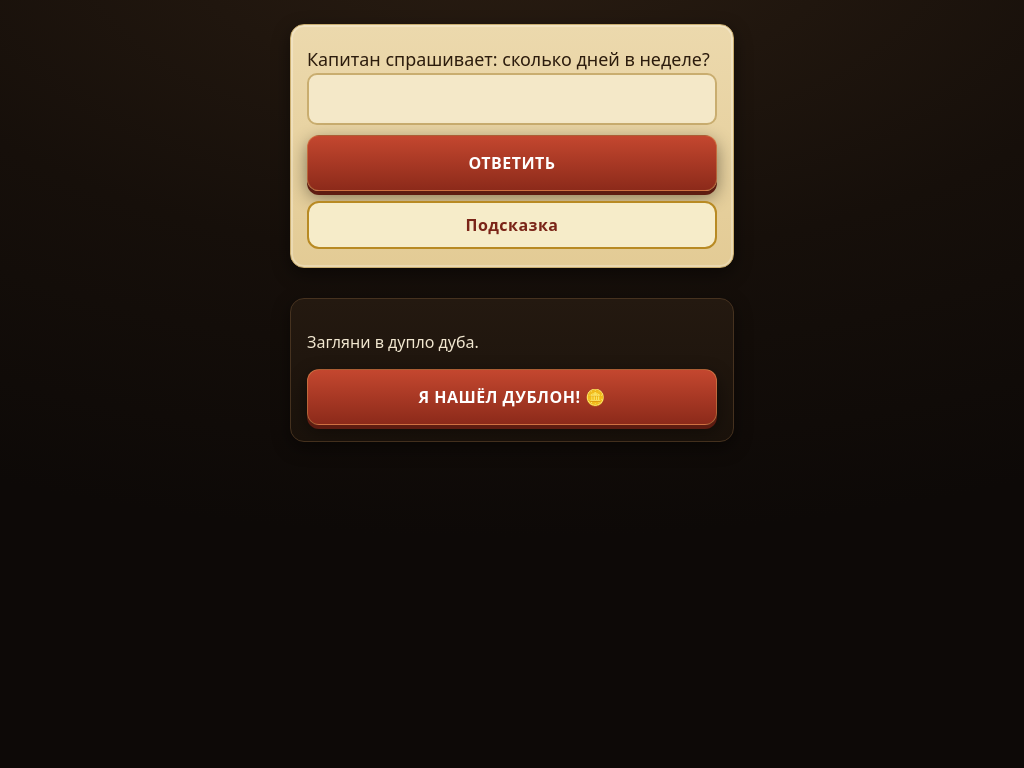
Scenario: after two wrong answers "Показать ответ" appears and fills the input so riddle can be solved
# Wrong answer 1
Type "wrong1" into the field named "Ответ" at (512, 99), box [307,73,717,125]
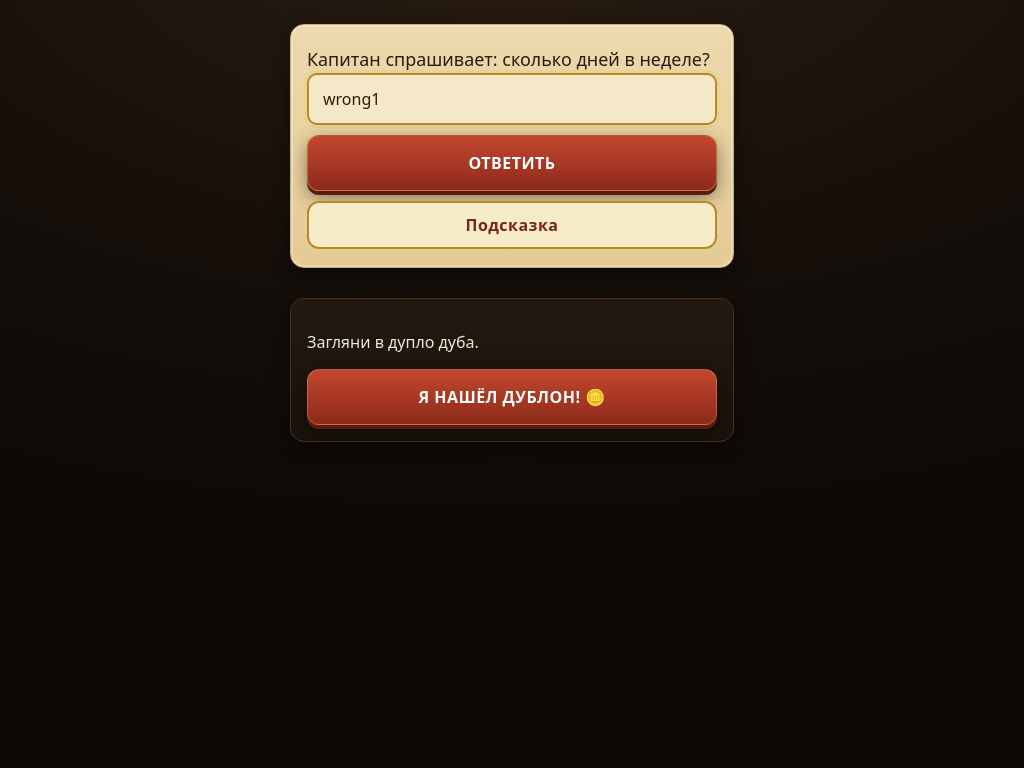
Click the button "Ответить" at (512, 163), box [307,135,717,191]
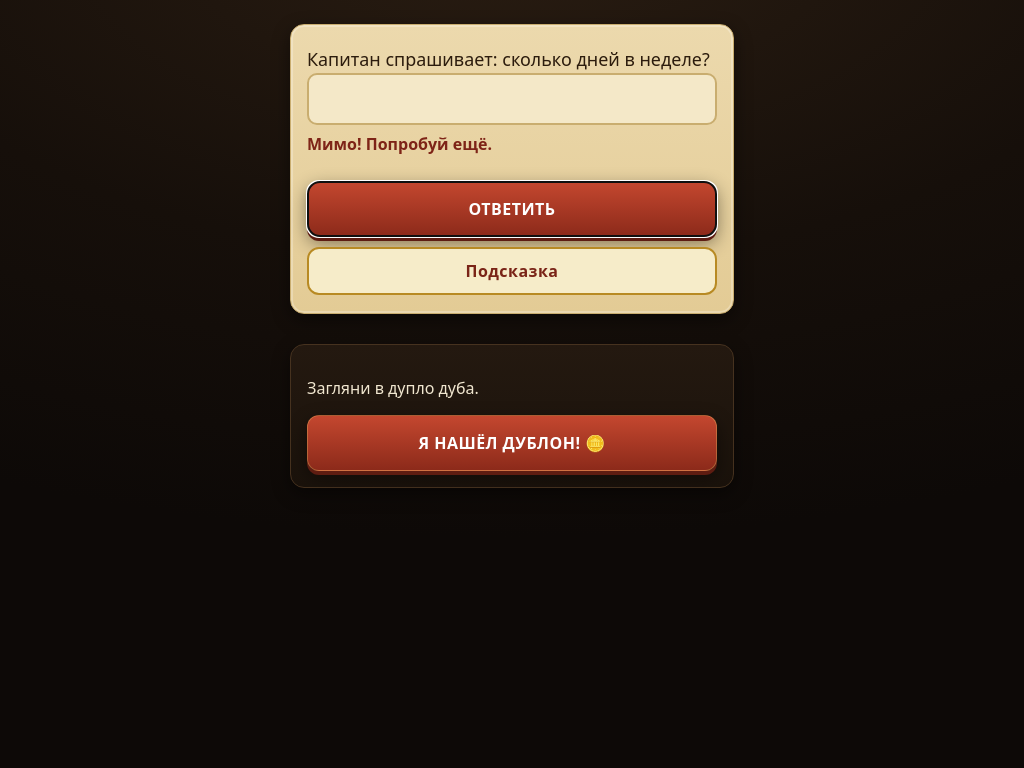
# Wrong answer 2
Type "wrong2" into the field named "Ответ" at (512, 99), box [307,73,717,125]
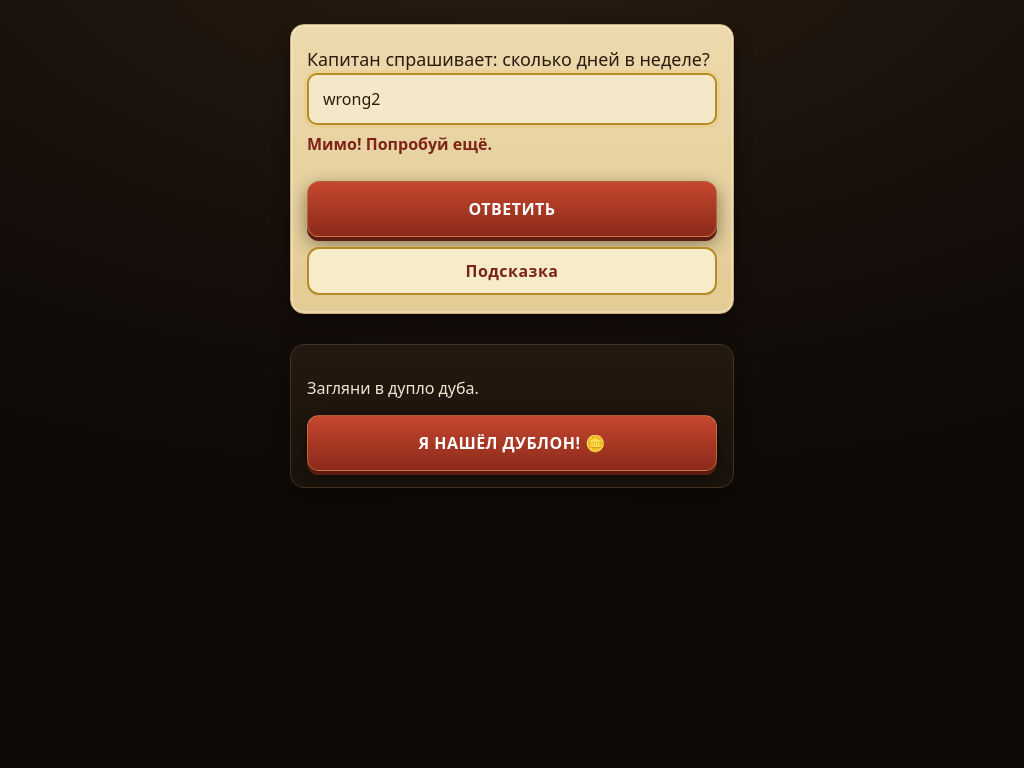
Click the button "Ответить" at (512, 209), box [307,181,717,237]
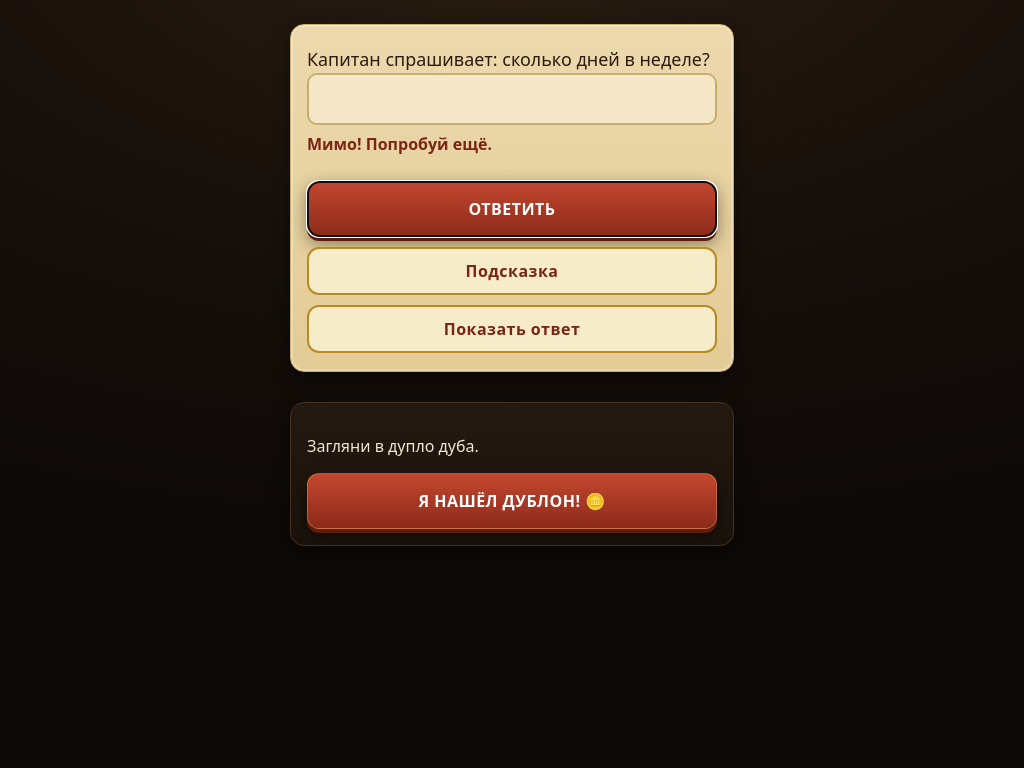
Expected: the button "Показать ответ" is shown
# Click it — fills the input with the real answer
Click the button "Показать ответ" at (512, 329), box [307,305,717,353]
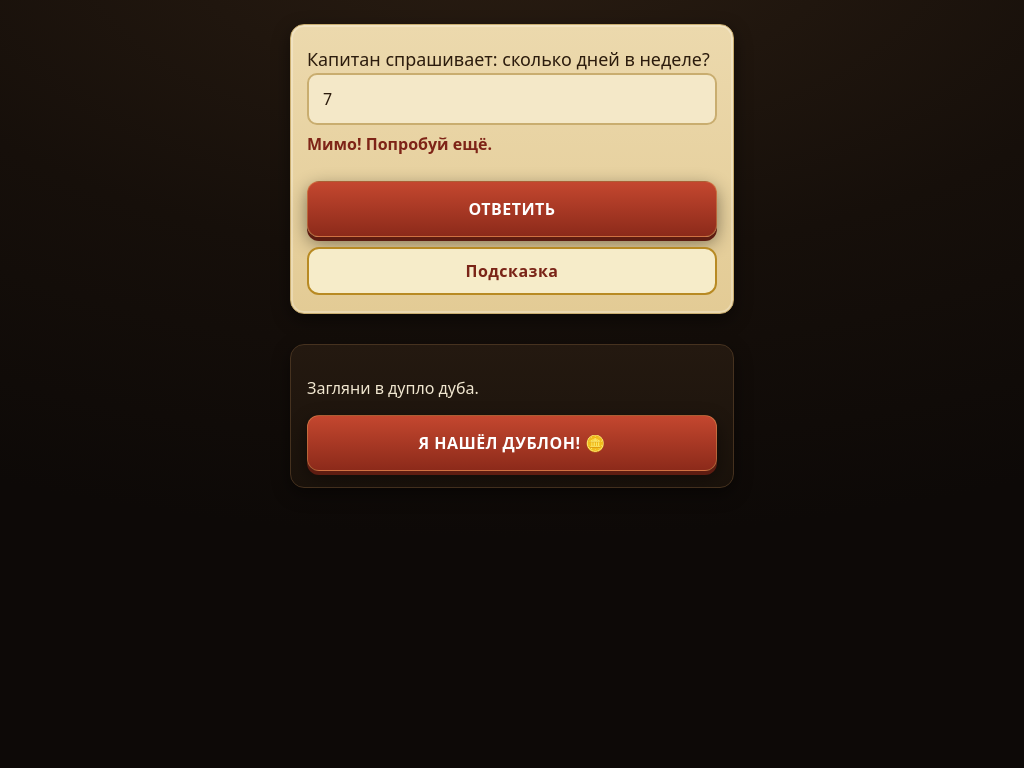
Expected: the field named "Ответ" holds "7", [307,73,717,125]
# Now press Ответить — riddle should be solved, step advances
Click the button "Ответить" at (512, 209), box [307,181,717,237]
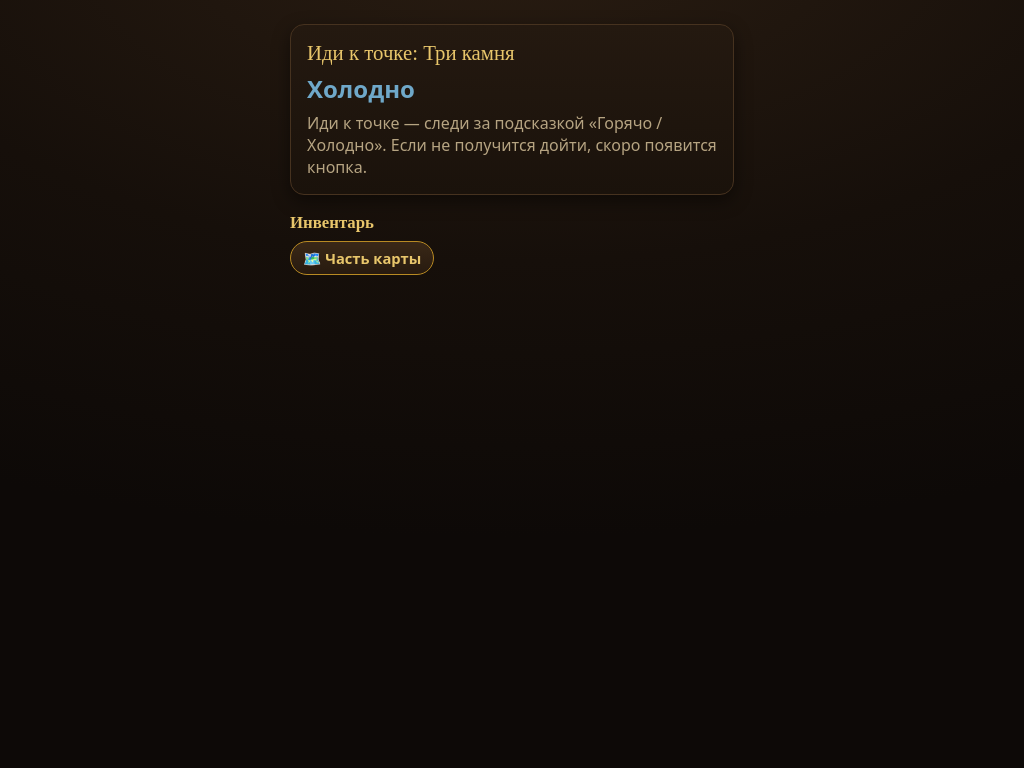
Expected: the text "Иди к точке: Три камня" is shown, [307,41,515,64]
